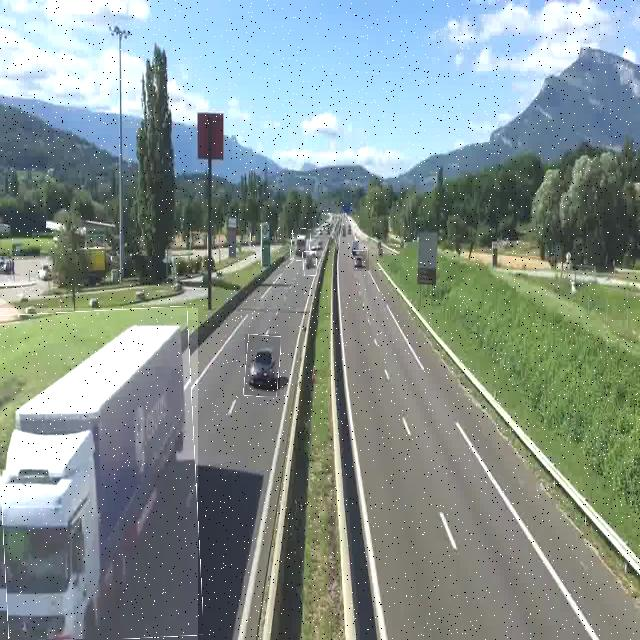Car: (245, 334, 280, 396), (302, 252, 317, 276), (354, 250, 369, 271)
Truck: (0, 308, 198, 640), (291, 229, 310, 261)
